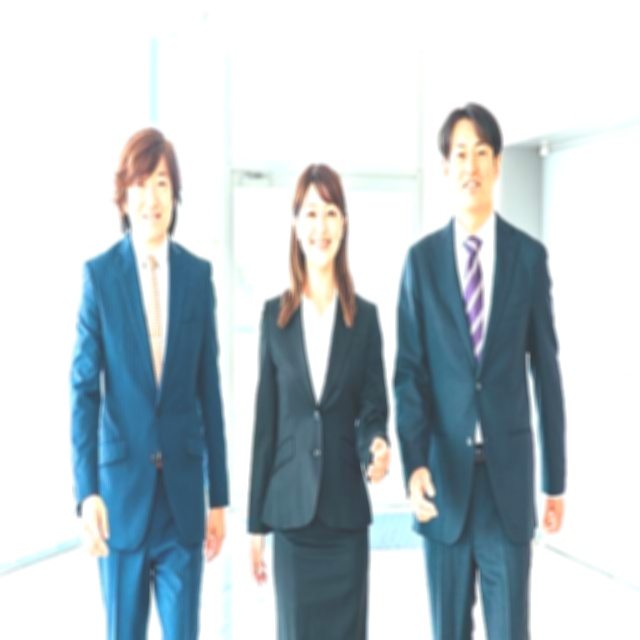Sin_Casco_Mascarrilla: (111, 126, 185, 232), (439, 104, 501, 208), (292, 163, 348, 271)
Sin_Chaleco: (404, 210, 547, 500), (79, 238, 213, 495), (261, 283, 381, 517)
